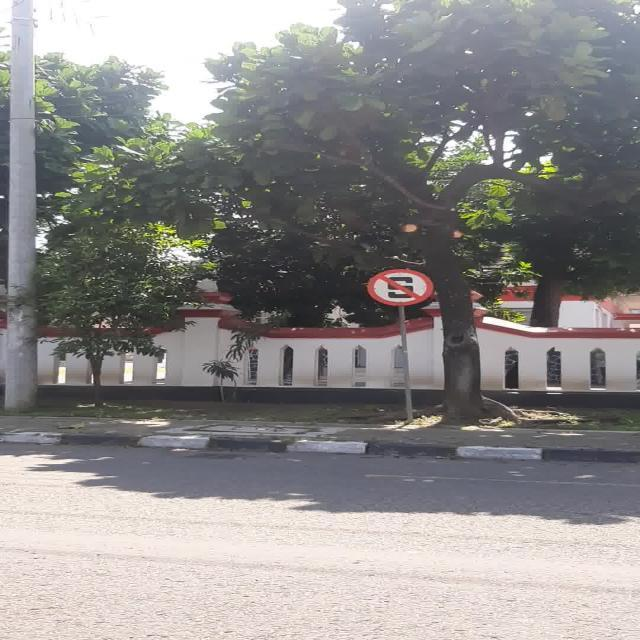Dilarang Berhenti: (366, 268, 434, 306)
